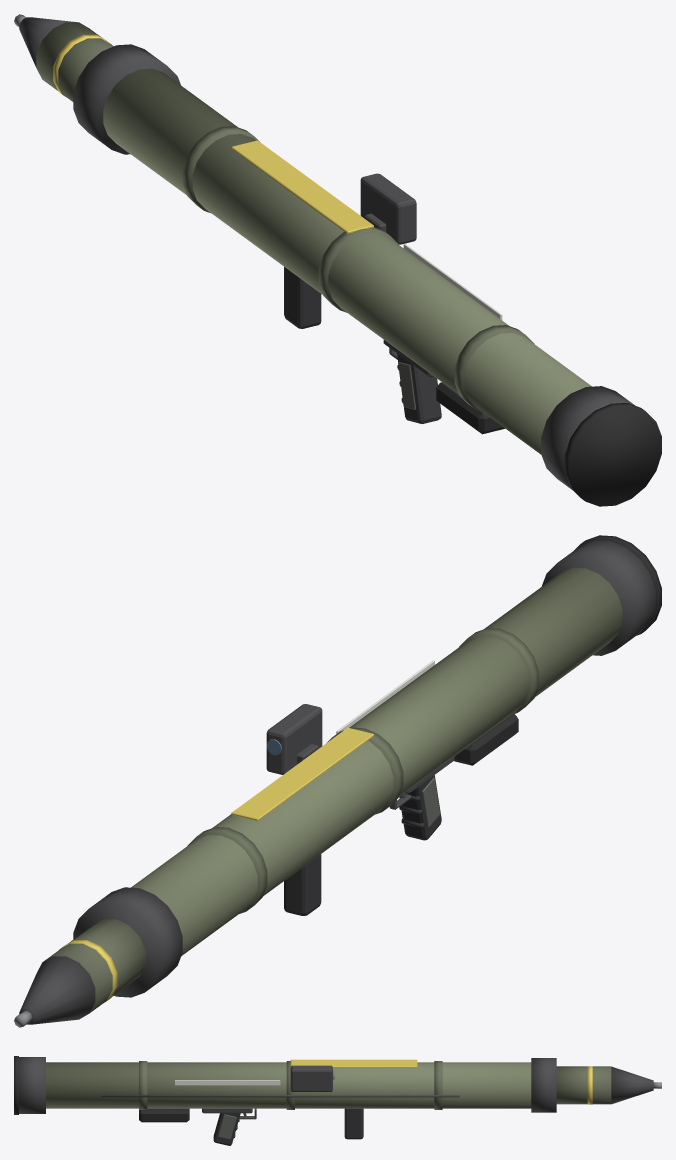
File: rocket_launcher.glb
3 views of the same model, one above another, from view 1: azimuth 30°, elevation 25°; view 2: azimuth 150°, elevation 25°; view 3: azimuth 270°, elevation 25° (orthographic). The views are drawn at different scales.
Parts seen in each view (by area): view 1: Rocket_launcher, Warhead; view 2: Rocket_launcher, Warhead; view 3: Rocket_launcher, Warhead.
Boxes of the visible parts, x1=… form: Rocket_launcher: x1=73, y1=44, x2=661, y2=506; Warhead: x1=14, y1=14, x2=113, y2=101; Rocket_launcher: x1=73, y1=535, x2=661, y2=997; Warhead: x1=14, y1=919, x2=145, y2=1027; Rocket_launcher: x1=14, y1=1056, x2=556, y2=1145; Warhead: x1=556, y1=1066, x2=661, y2=1104.
Bounding box in the file's own units: 0.1539 × 0.2325 × 1.54.
